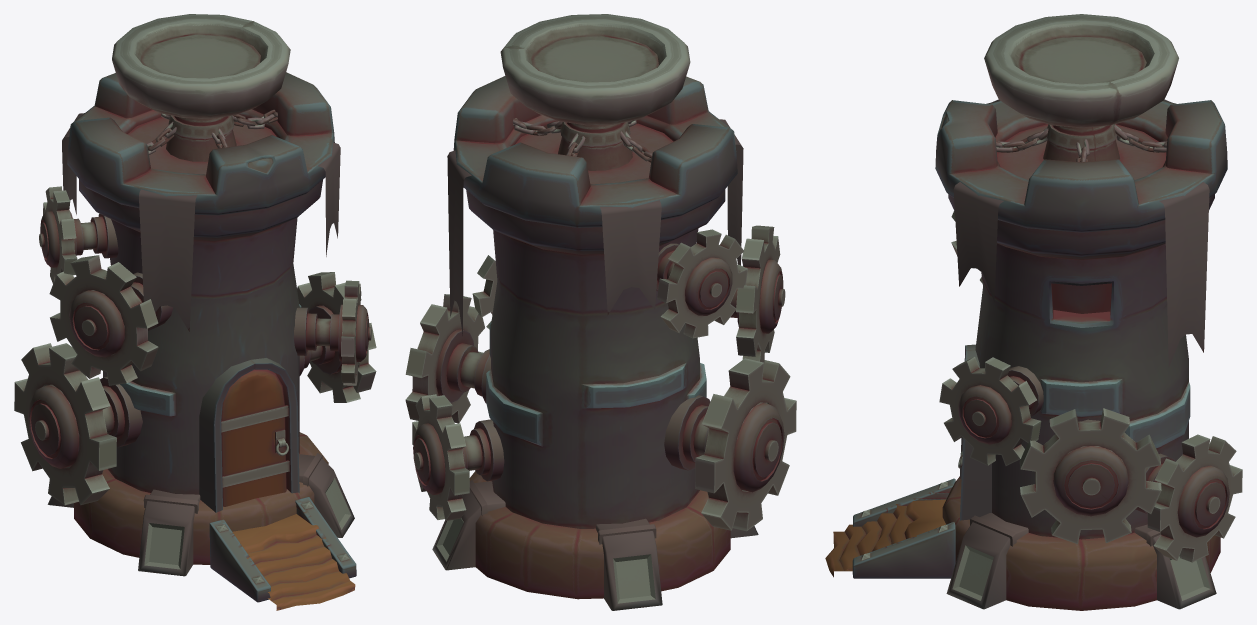
The model's file is Tower 100HP-Animated-Textured.fbx.
3 renders of one model, left to right at view 1: azimuth 30°, elevation 25°; view 2: azimuth 150°, elevation 25°; view 3: azimuth 270°, elevation 25°, orthographic. The views are drawn at different scales.
Parts seen in each view (by area): view 1: Tower 100%, Gear Holders 100%, Door-Frame, Gear_Big_Left, banner, Gear_Med_Left, Stair, DoorFrame Extension, Gear_Med_Right, Gear_Small_Left, Gear_Small_Right; view 2: Tower 100%, Gear Holders 100%, Gear_Big_Left, banner, Gear_Small_Left, Gear_Med_Right, Gear_Big_Right, Gear_Med_Left, Gear_Small_Right; view 3: Tower 100%, Gear Holders 100%, banner, Gear_Med_Right, Gear_Big_Right, DoorFrame Extension, Gear_Small_Right, Stair, Door-Frame.
Part boxes in pixels (x1,y1,x2,y2): Tower 100%: [47, 14, 354, 576]; Gear Holders 100%: [28, 211, 371, 468]; Door-Frame: [199, 358, 299, 512]; Gear_Big_Left: [14, 343, 116, 505]; banner: [62, 113, 340, 331]; Gear_Med_Left: [49, 255, 158, 385]; Stair: [232, 514, 355, 610]; DoorFrame Extension: [209, 497, 356, 602]; Gear_Med_Right: [297, 272, 376, 402]; Gear_Small_Left: [43, 186, 77, 283]; Gear_Small_Right: [341, 280, 361, 385]; Tower 100%: [432, 14, 758, 610]; Gear Holders 100%: [413, 243, 785, 494]; Gear_Big_Left: [695, 358, 796, 531]; banner: [447, 119, 743, 335]; Gear_Small_Left: [657, 229, 747, 338]; Gear_Med_Right: [405, 294, 484, 423]; Gear_Big_Right: [412, 394, 469, 520]; Gear_Med_Left: [736, 225, 780, 364]; Gear_Small_Right: [472, 255, 497, 329]; Tower 100%: [935, 14, 1227, 610]; Gear Holders 100%: [958, 366, 1229, 537]; banner: [953, 99, 1209, 367]; Gear_Med_Right: [1019, 408, 1161, 544]; Gear_Big_Right: [1147, 434, 1242, 562]; DoorFrame Extension: [852, 478, 955, 578]; Gear_Small_Right: [939, 357, 1041, 465]; Stair: [825, 499, 945, 577]; Door-Frame: [958, 344, 991, 520].
Bounding box in the file's own units: 1466 × 2026 × 1516.
